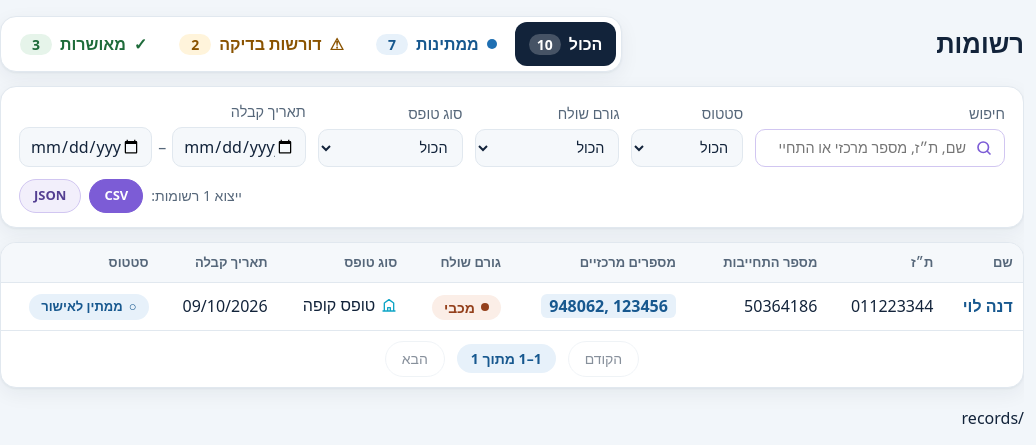
Test case: RecordsFilters › the search waits for the typing to stop, then asks once
Check: the text "דנה לוי" is shown, box 963,295 -> 1013,317
Type "0112" into the search field at [880, 148], box 755,129 -> 1005,167
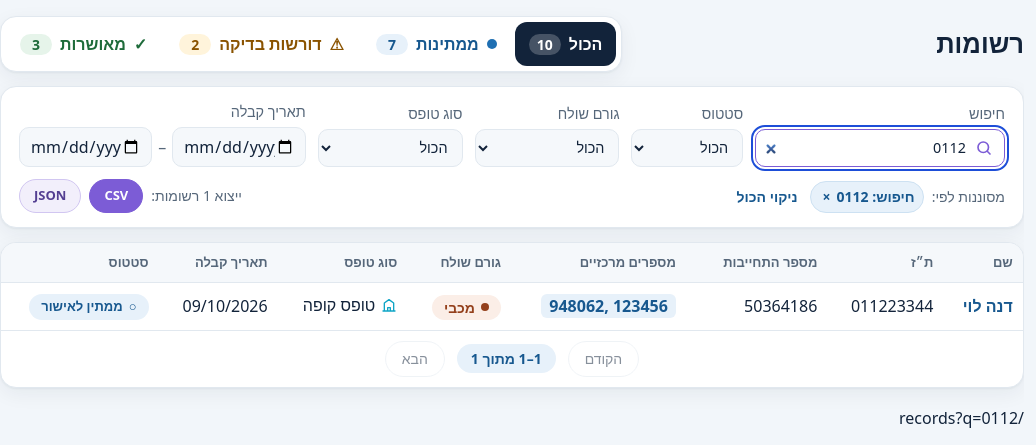
Check: the text with test id "where" reads "/records?q=0112", box 899,407 -> 1024,429
